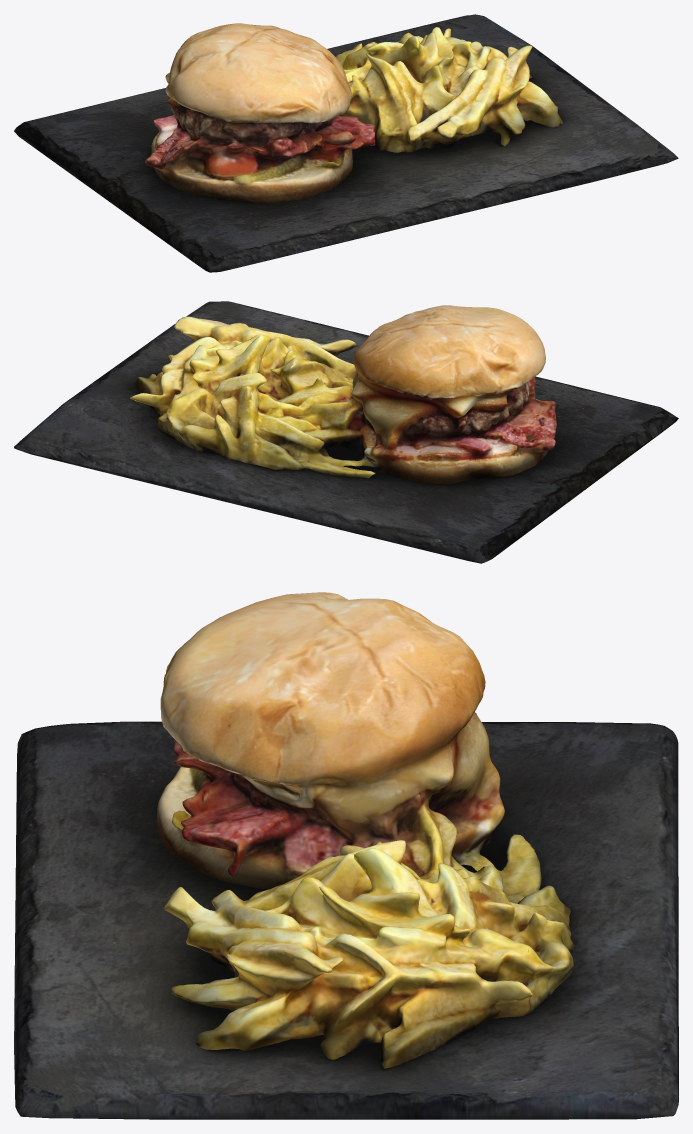
File: Plato_03.glb
The picture shows the model from 3 angles, top to bottom: view 1: azimuth 30°, elevation 25°; view 2: azimuth 150°, elevation 25°; view 3: azimuth 270°, elevation 25°; orthographic projection. The views are drawn at different scales.
Visible parts, largest first — view 1: Plato Pizarra Burger, BurgerTest03; view 2: BurgerTest03, Plato Pizarra Burger; view 3: Plato Pizarra Burger, BurgerTest03.
Part boxes in pixels (bbox=[...]): Plato Pizarra Burger: bbox=[14, 14, 678, 272]; BurgerTest03: bbox=[145, 23, 562, 203]; BurgerTest03: bbox=[130, 305, 556, 484]; Plato Pizarra Burger: bbox=[14, 301, 678, 563]; Plato Pizarra Burger: bbox=[14, 721, 678, 1119]; BurgerTest03: bbox=[156, 592, 574, 1068].
Bounding box in the file's own units: 0.3089 × 0.0832 × 0.2249.
Materials: 2 (2 with a texture image).
